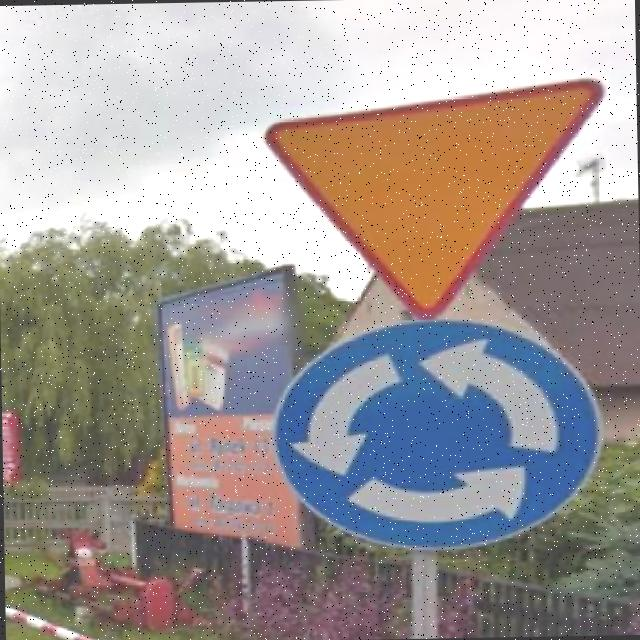Ustap pierwszenstwa: (259, 73, 612, 324)
